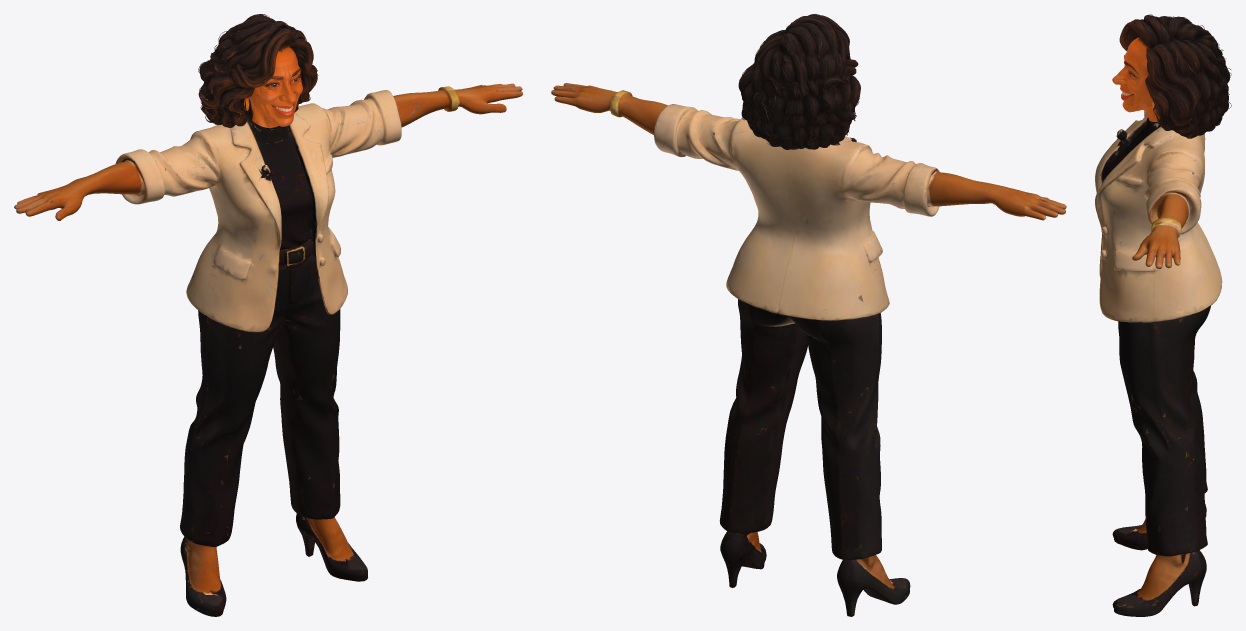
File: gloria-detalhada.glb
3 renders of one model, left to right at view 1: azimuth 30°, elevation 25°; view 2: azimuth 150°, elevation 25°; view 3: azimuth 270°, elevation 25°, orthographic.
Parts seen in each view (by area): view 1: Corpo Glória Maria.001, Cabeça Glória Maria; view 2: Corpo Glória Maria.001, Cabeça Glória Maria; view 3: Corpo Glória Maria.001, Cabeça Glória Maria.
Part boxes in pixels (x1=…): Corpo Glória Maria.001: x1=14, y1=83, x2=522, y2=616; Cabeça Glória Maria: x1=198, y1=14, x2=318, y2=128; Corpo Glória Maria.001: x1=551, y1=83, x2=1066, y2=616; Cabeça Glória Maria: x1=738, y1=14, x2=860, y2=149; Corpo Glória Maria.001: x1=1095, y1=111, x2=1222, y2=616; Cabeça Glória Maria: x1=1112, y1=14, x2=1231, y2=138.
Size of the model in its own units: 1.99 by 2.12 by 0.4686.
Materials: 2 (2 with a texture image).
